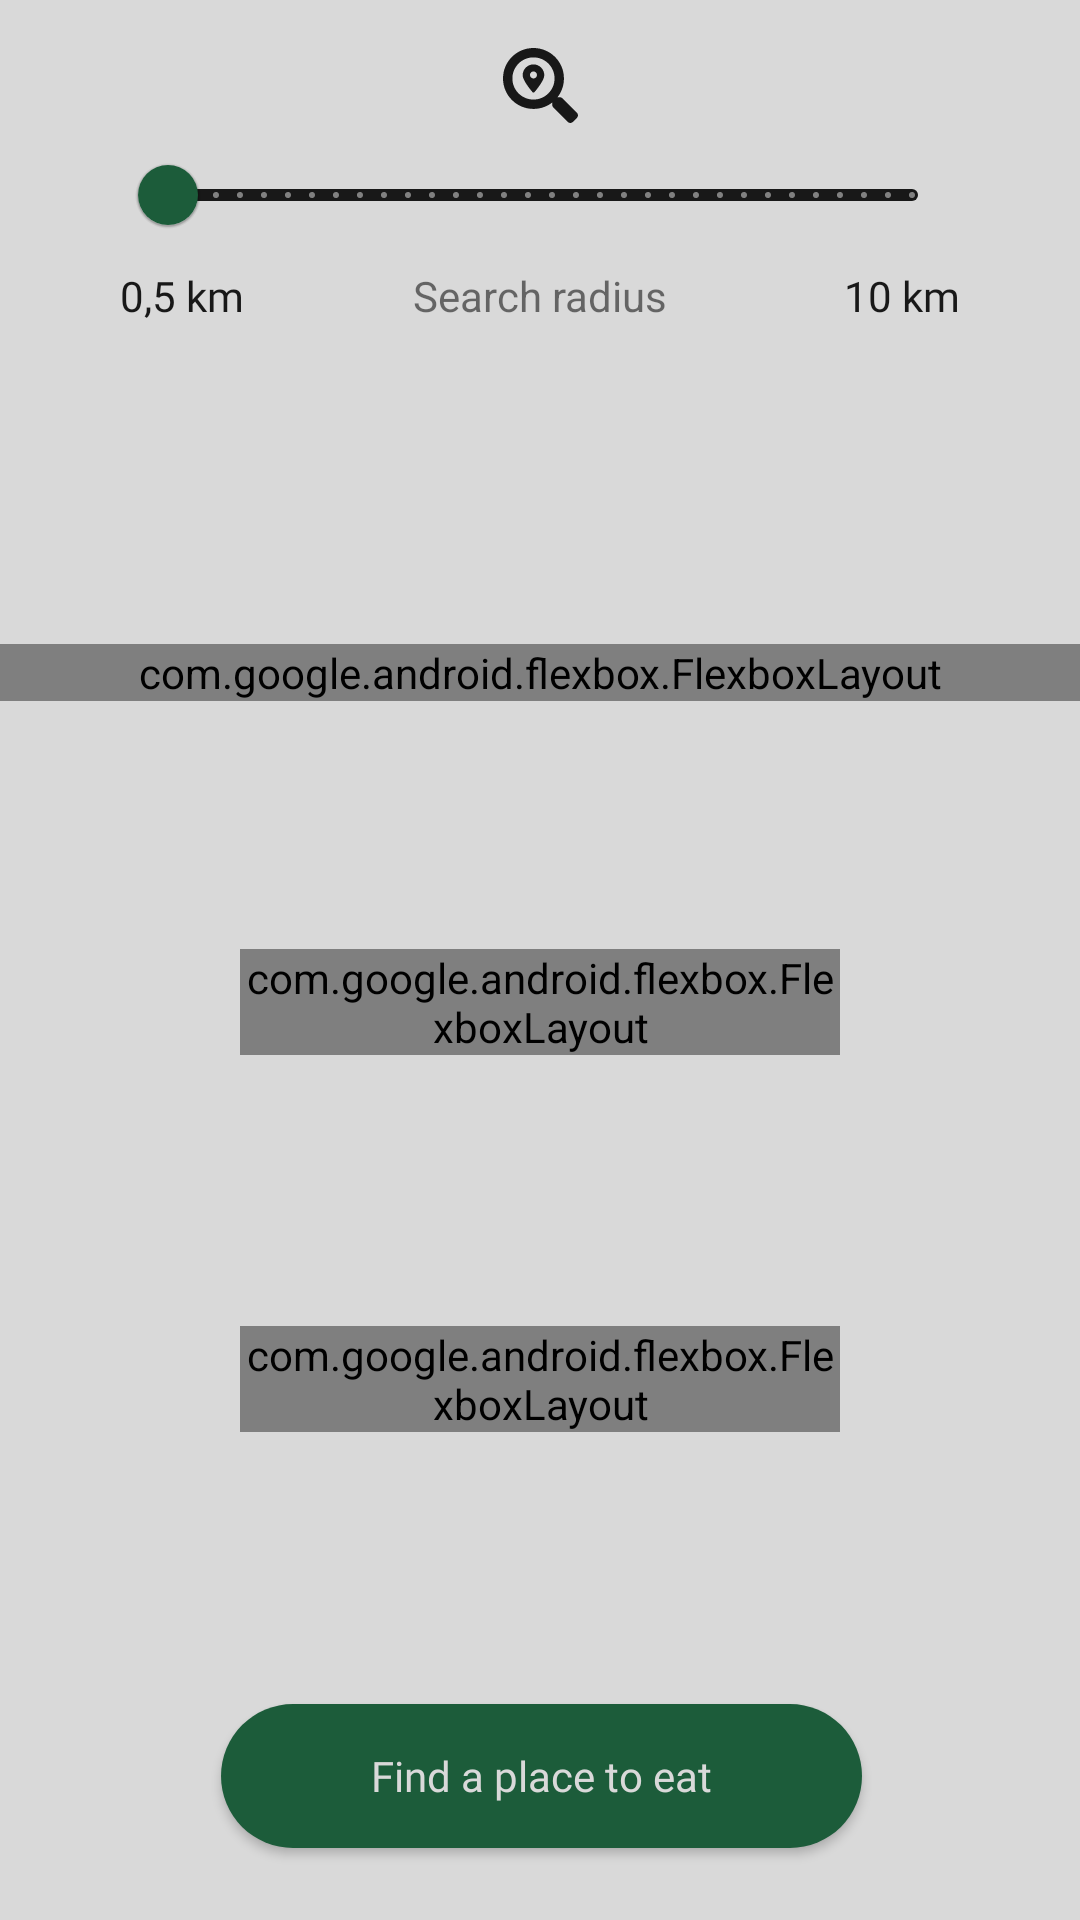

Icon click points for this 1080px×1920px phone screenshot, format (x,y):
Gps icon: (540,85)
